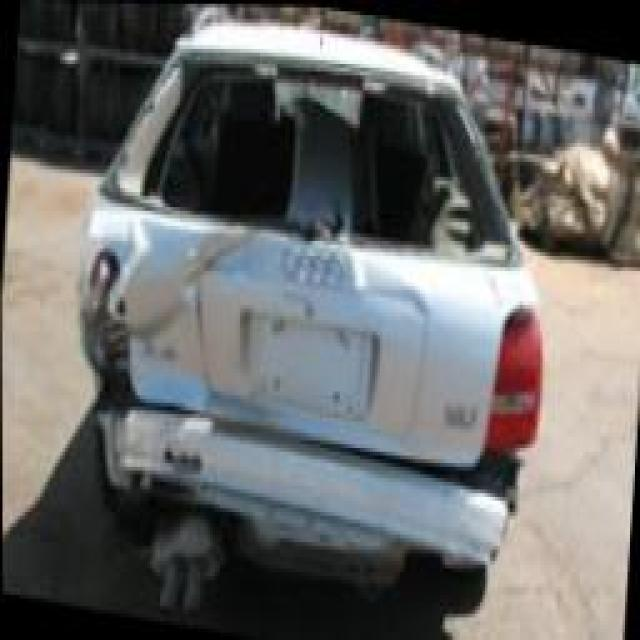replaceable: (122, 44, 506, 226), (126, 432, 540, 566), (94, 232, 227, 421)
